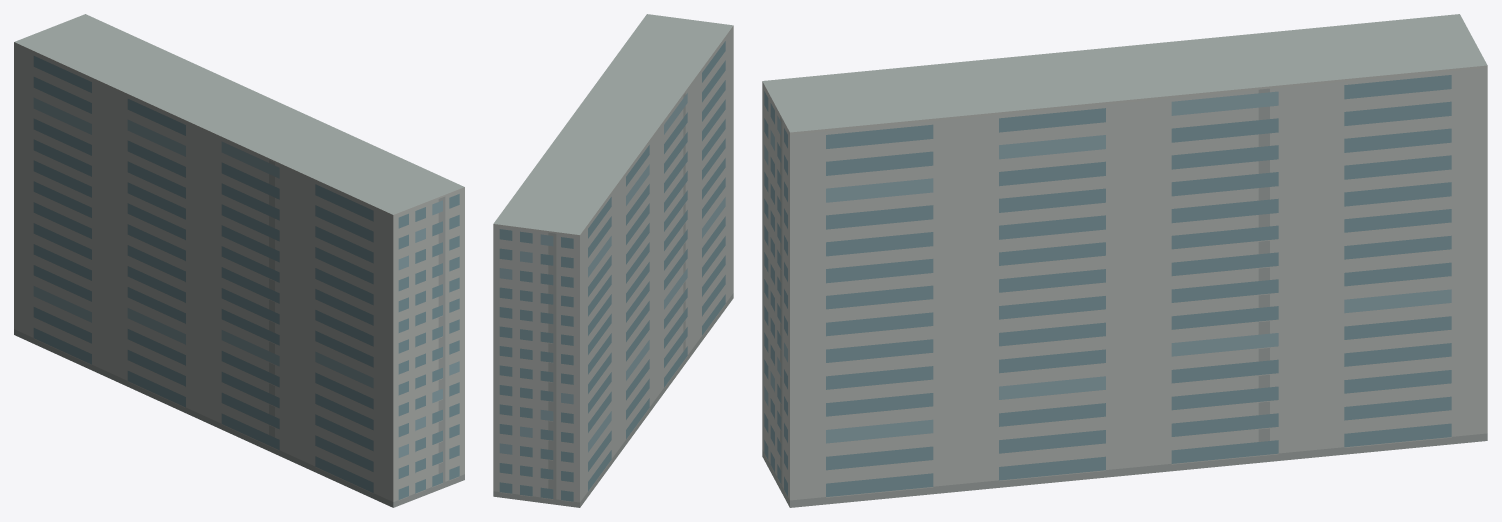
File: residential-eb177a5f-0fd7-4697-b0c7-ee5ecb8c51cf.glb
3 renders of one model, left to right at view 1: azimuth 30°, elevation 25°; view 2: azimuth 150°, elevation 25°; view 3: azimuth 270°, elevation 25°, orthographic. The views are drawn at different scales.
Parts seen in each view (by area): view 1: residential-eb177a5f-0fd7-4697-b0c7-ee5ecb8c51cf.tmp; view 2: residential-eb177a5f-0fd7-4697-b0c7-ee5ecb8c51cf.tmp; view 3: residential-eb177a5f-0fd7-4697-b0c7-ee5ecb8c51cf.tmp.
Part boxes in pixels (x1,y1,x2,y2): residential-eb177a5f-0fd7-4697-b0c7-ee5ecb8c51cf.tmp: (14,14,464,507); residential-eb177a5f-0fd7-4697-b0c7-ee5ecb8c51cf.tmp: (493,14,733,507); residential-eb177a5f-0fd7-4697-b0c7-ee5ecb8c51cf.tmp: (762,14,1487,507).
Bounding box in the file's own units: 28.91 × 42.7 × 74.77.
